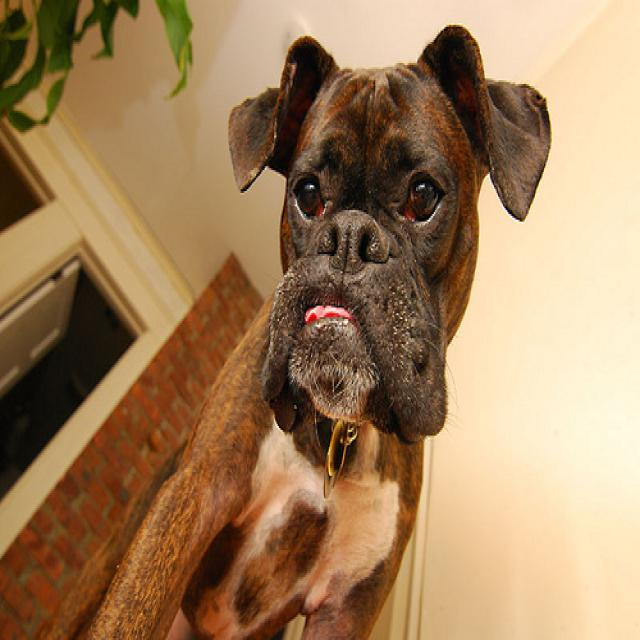dog-boxer: (15, 11, 559, 636)
